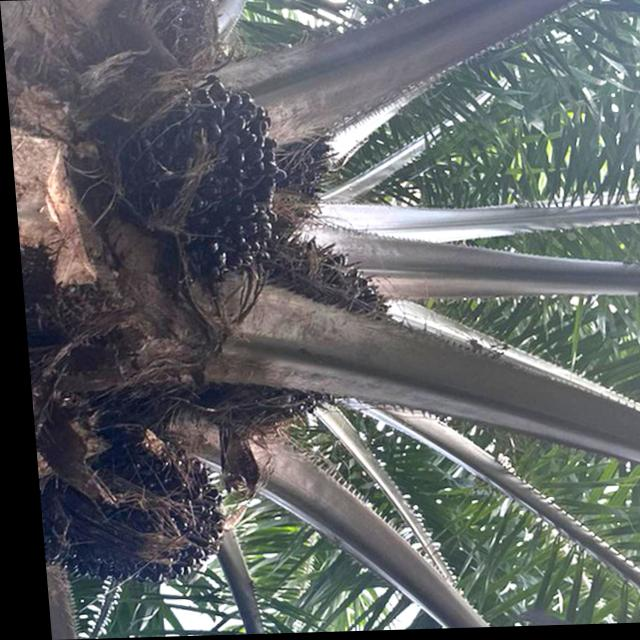unripe: (192, 228, 398, 432)
